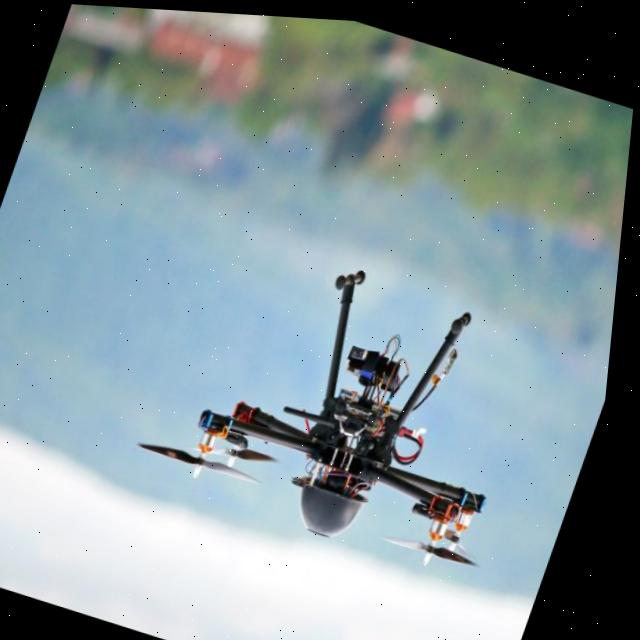drones: (94, 124, 631, 631)
